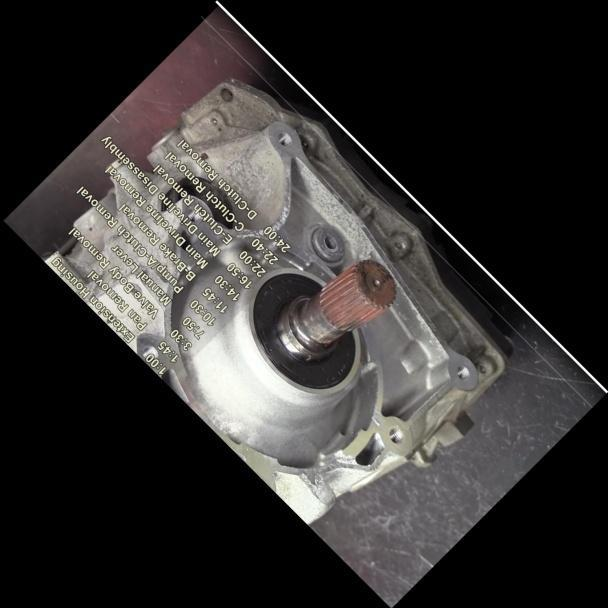hole: (382, 423, 409, 450), (272, 126, 296, 150), (451, 361, 472, 382)
